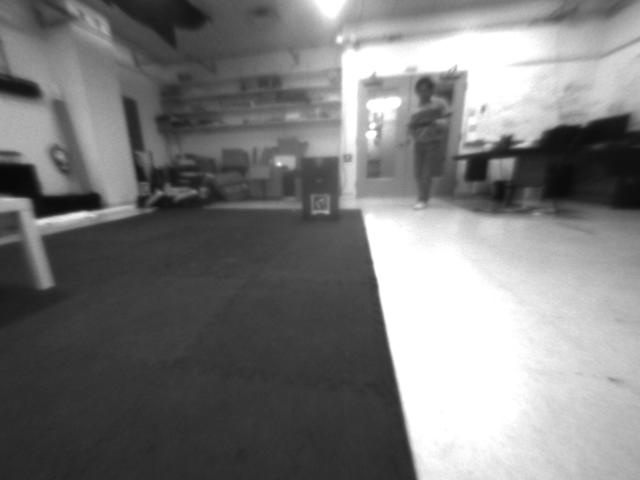door_handle: (393, 139, 407, 151)
drawer: (310, 157, 329, 169)
